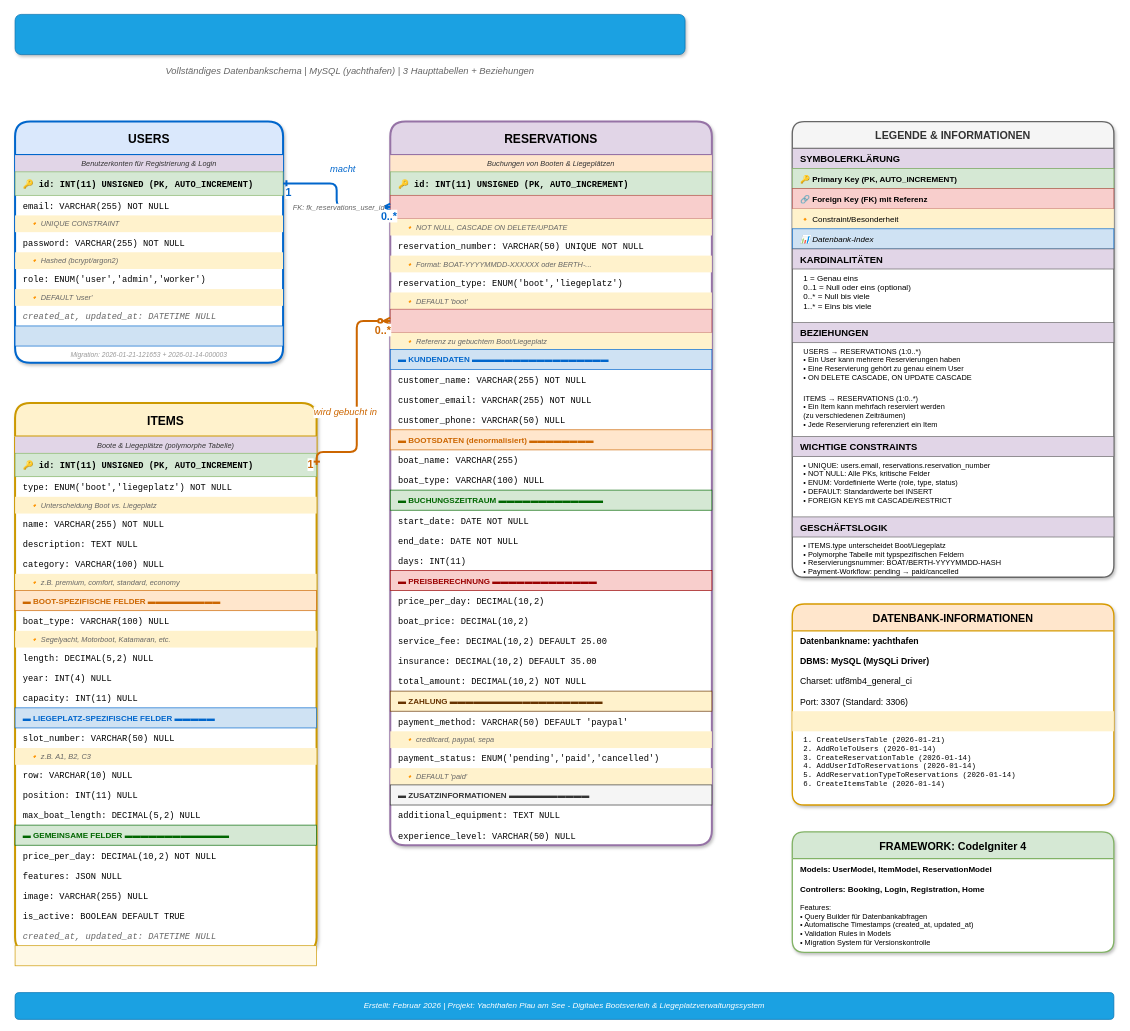
Image size: 1130x1031. Some labels were removed from this diagram. The centre of each missing label's shape, as x and y in pixels:
"ER-DIAGRAMM: BOOTSVERLEIH-SYSTEM YACHTHAFEN PLAU AM SEE" belongs at (350,35).
"Migrationen (6 Dateien):" belongs at (953,721).
"📊 INDEX: email (UNIQUE)" belongs at (148,335).
"📊 INDEXES: type, is_active, (type, is_active)" belongs at (165,955).
"🔗 item_id: INT(11) UNSIGNED NULL (FK → ITEMS.id)" belongs at (551,321).
"🔗 user_id: INT(11) UNSIGNED (FK → USERS.id)" belongs at (551,207).
